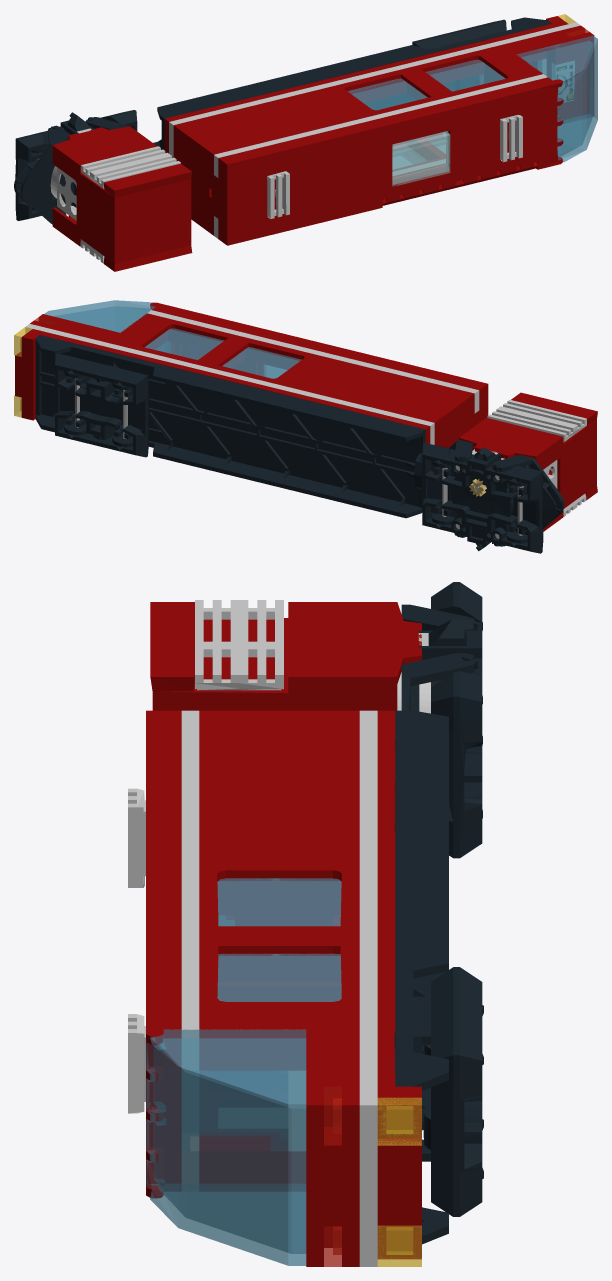
File: front-coach-with-motor-unit.glb
3 renders of one model, top to bottom at view 1: azimuth 30°, elevation 25°; view 2: azimuth 150°, elevation 25°; view 3: azimuth 270°, elevation 25°, orthographic. The views are drawn at different scales.
Size of the model in its own units: 226 by 40 by 63.9.
